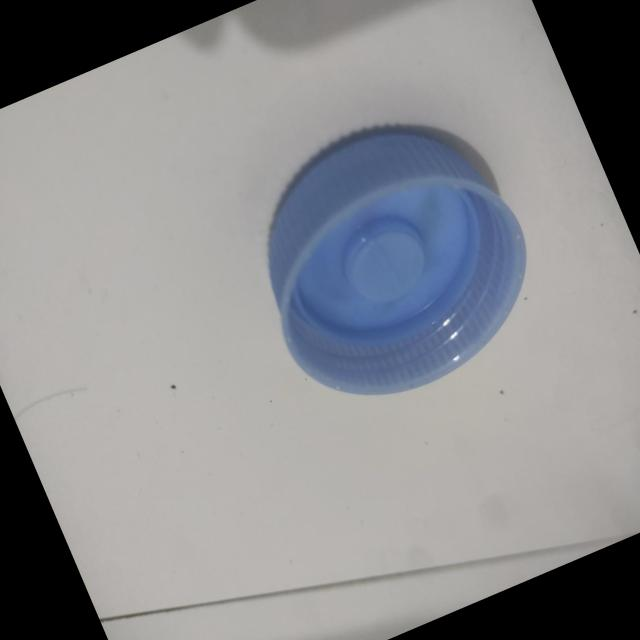TutupGalon: (220, 88, 564, 431)
